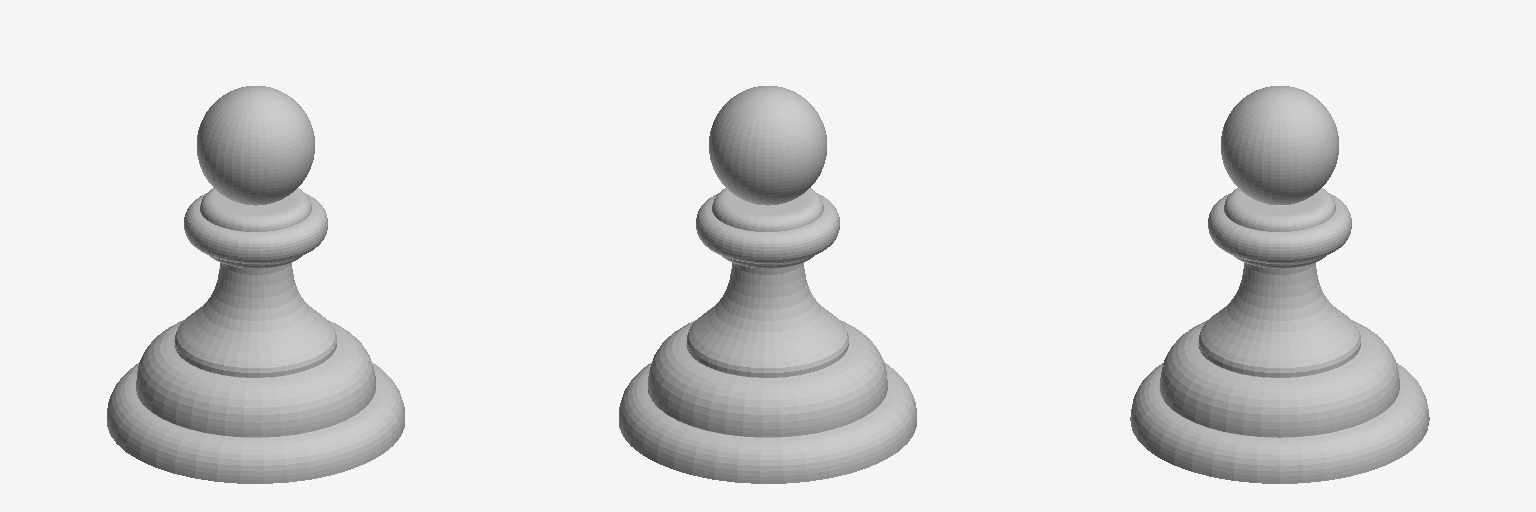
The model's file is finalsoliiderleft7.obj.
3 renders of one model, left to right at view 1: azimuth 30°, elevation 25°; view 2: azimuth 150°, elevation 25°; view 3: azimuth 270°, elevation 25°, orthographic.
Visible parts, largest first — view 1: white_pawn1_Mesh.003; view 2: white_pawn1_Mesh.003; view 3: white_pawn1_Mesh.003.
Part boxes in pixels (left/top/right/bottom): white_pawn1_Mesh.003: left=107, top=86, right=404, bottom=483; white_pawn1_Mesh.003: left=619, top=86, right=916, bottom=483; white_pawn1_Mesh.003: left=1130, top=86, right=1429, bottom=483.
Size of the model in its own units: 0.489 by 0.5954 by 0.489.